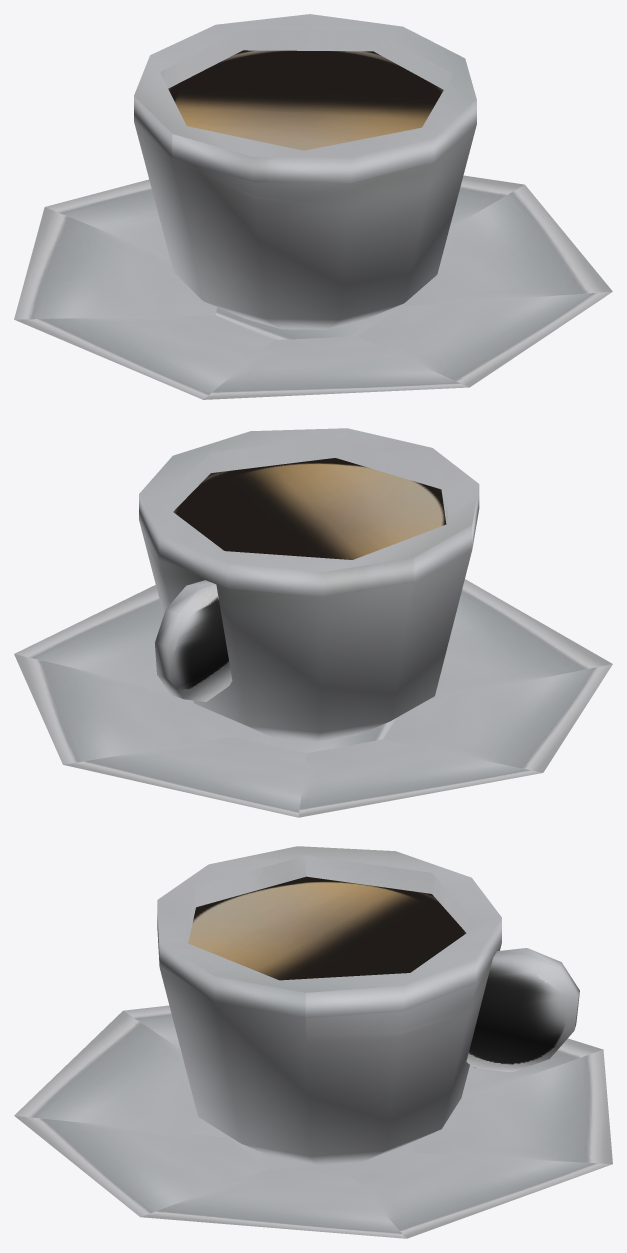
The model's file is velocitat.fbx.
3 views of the same model, one above another, from view 1: azimuth 30°, elevation 25°; view 2: azimuth 150°, elevation 25°; view 3: azimuth 270°, elevation 25° (orthographic).
Visible parts, largest first — view 1: Cylinder_002; view 2: Cylinder_002; view 3: Cylinder_002.
Boxes of the visible parts, x1=… form: Cylinder_002: x1=14, y1=14, x2=612, y2=399; Cylinder_002: x1=14, y1=428, x2=612, y2=817; Cylinder_002: x1=14, y1=846, x2=612, y2=1238.
Bounding box in the file's own units: 4.83 × 1.95 × 4.75.
1 material, 1 textured.
